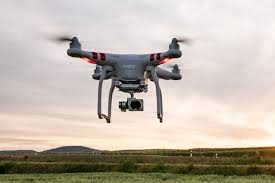Drone: (46, 20, 209, 135)
